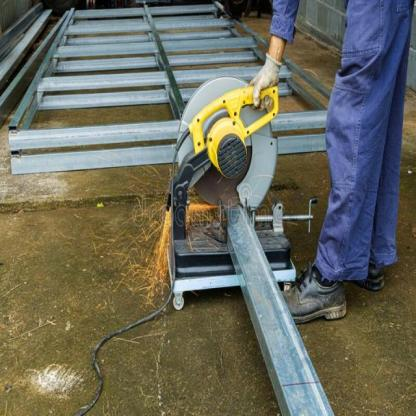bota: (282, 262, 346, 324), (348, 261, 385, 291)
